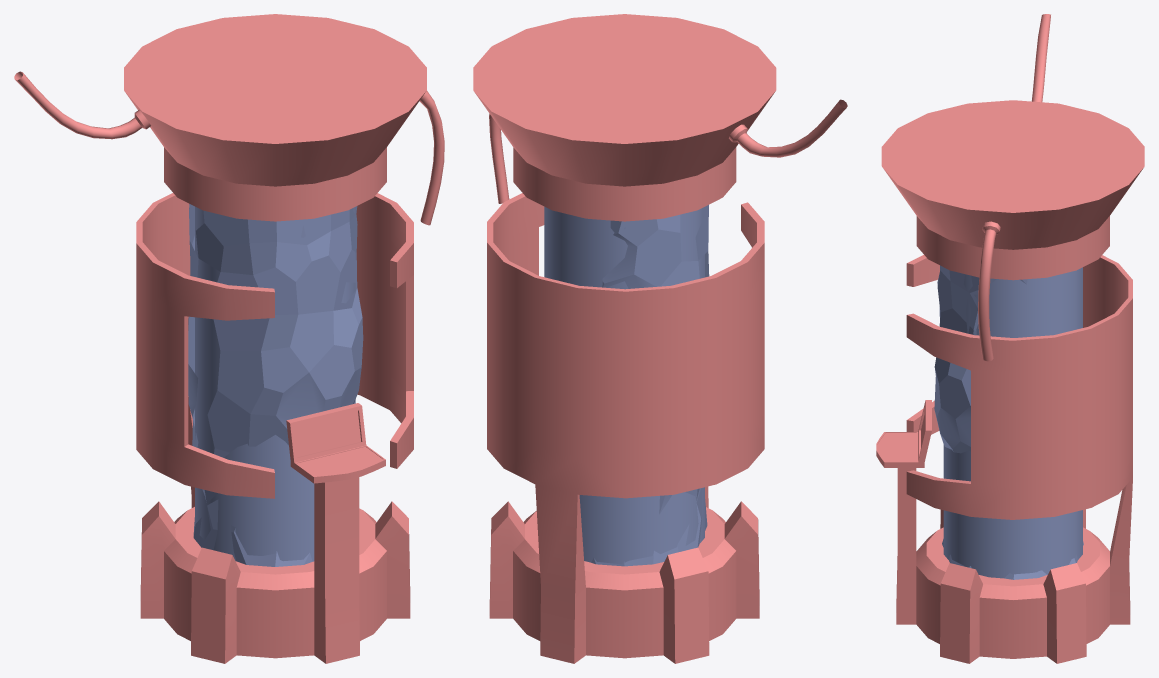
Rendered from tank_breake.FBX.
3 renders of one model, left to right at view 1: azimuth 30°, elevation 25°; view 2: azimuth 150°, elevation 25°; view 3: azimuth 270°, elevation 25°, orthographic. The views are drawn at different scales.
Visible parts, largest first — view 1: Cylinder001, Object001, Object076, Object077, Object098, Object099, Object074, Object125, Object084, Object083, Object086, Object006 (+11 smaller); view 2: Cylinder001, Object001, Object019, Object011, Object018, Object023; view 3: Cylinder001, Object001, Object124, Object092, Object123, Object097, Object091, Object107.
Part boxes in pixels (x1,y1,x2,y2): Cylinder001: [14, 14, 444, 663]; Object001: [195, 206, 355, 561]; Object076: [217, 351, 263, 413]; Object077: [213, 272, 269, 351]; Object098: [296, 255, 340, 314]; Object099: [290, 311, 333, 371]; Object074: [207, 390, 250, 452]; Object125: [309, 345, 354, 399]; Object084: [261, 347, 308, 392]; Object083: [276, 372, 325, 428]; Object086: [253, 267, 298, 314]; Object006: [276, 214, 330, 244]; Cylinder001: [473, 14, 847, 663]; Object001: [544, 206, 704, 564]; Object019: [634, 229, 681, 286]; Object011: [618, 219, 658, 246]; Object018: [602, 233, 637, 283]; Object023: [660, 261, 699, 286]; Cylinder001: [876, 14, 1144, 663]; Object001: [943, 267, 1082, 578]; Object124: [939, 375, 970, 418]; Object092: [950, 281, 977, 329]; Object123: [936, 408, 960, 448]; Object097: [939, 308, 973, 334]; Object091: [937, 270, 952, 312]; Object107: [955, 406, 970, 446].
Bounding box in the file's own units: 2.59 × 3.67 × 1.77.
